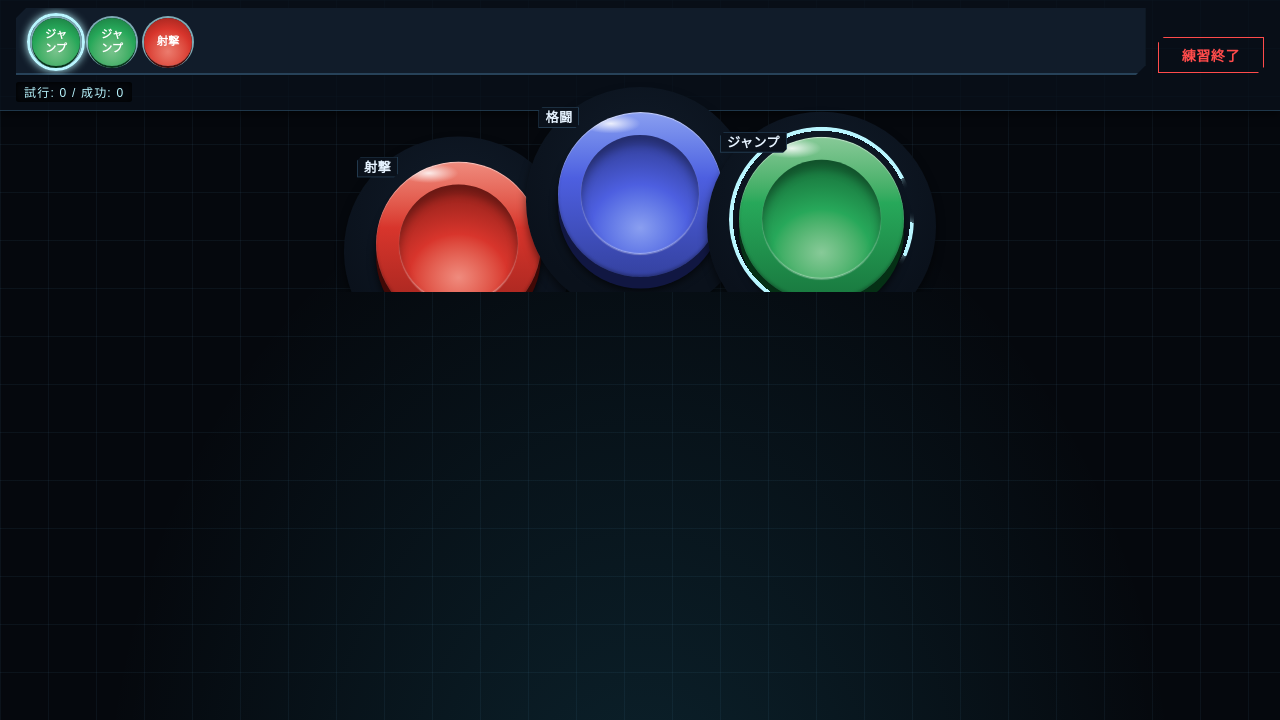
ジャンプ→ジャンプ→射撃コマンド練習 E2E テスト › 練習終了後のサマリで 1 回成功したとき成功率 100% が表示される
Press the mouse on the button "ジャンプ" at (822, 219), box [739,137,904,302]
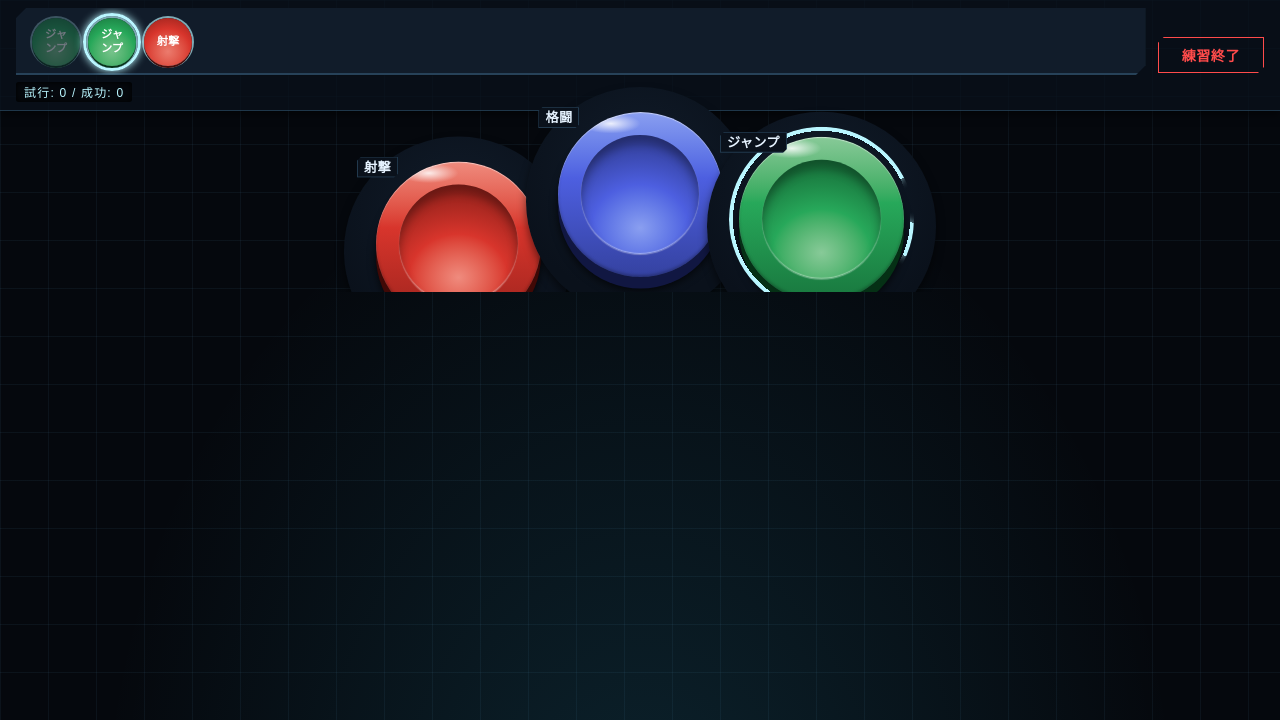
Press the mouse on the button "ジャンプ" at (822, 219), box [739,137,904,302]
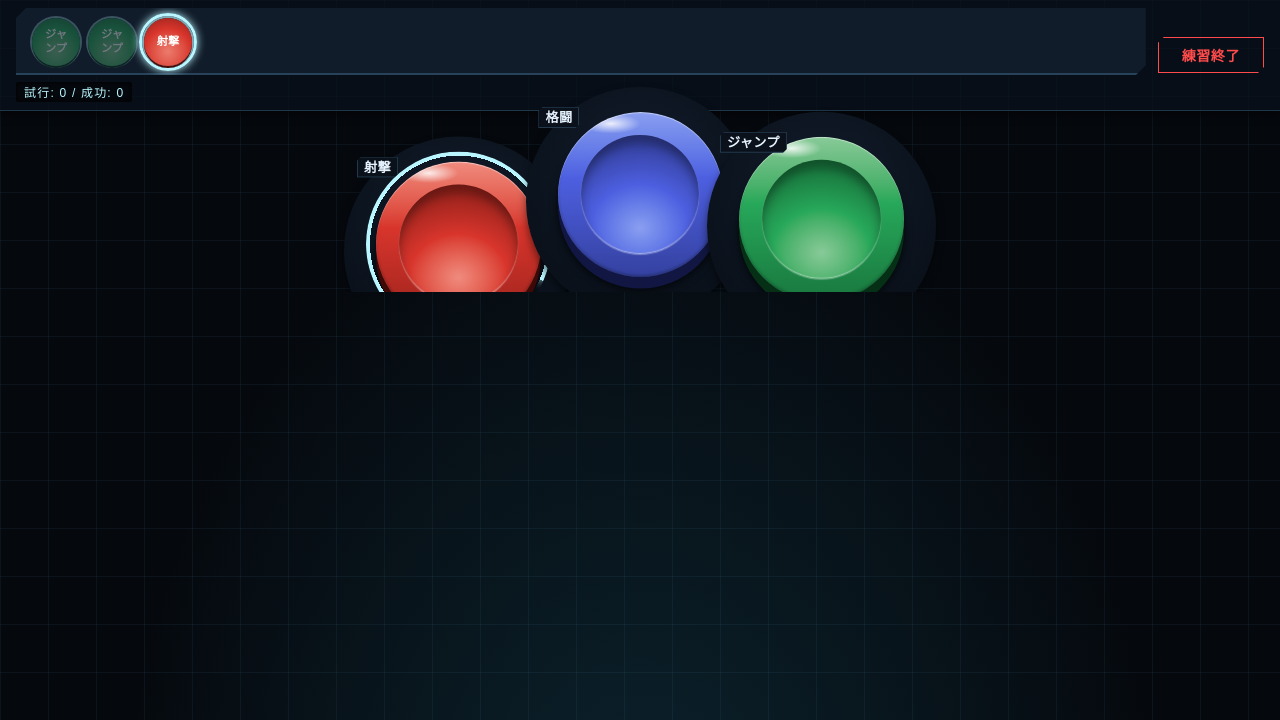
Press the mouse on the button "射撃" at (458, 244), box [376,162,541,327]
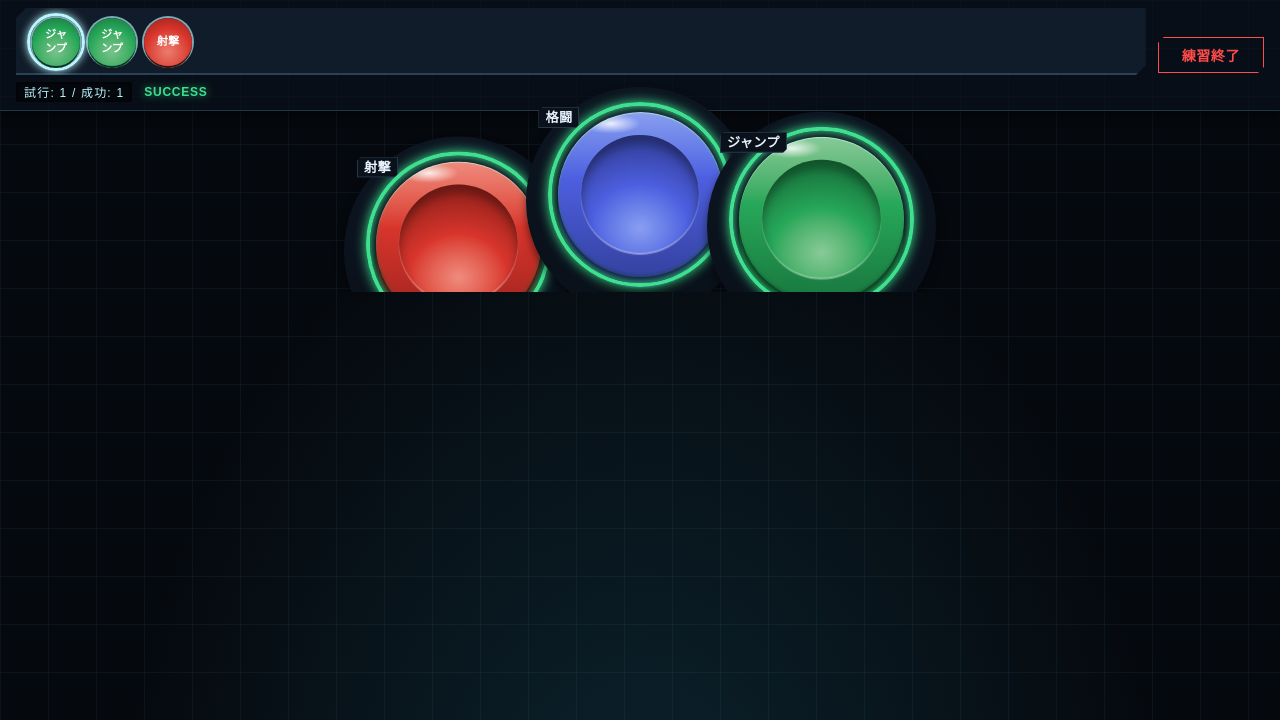
Click the button "練習終了" at (1211, 55), box [1158,37,1264,73]
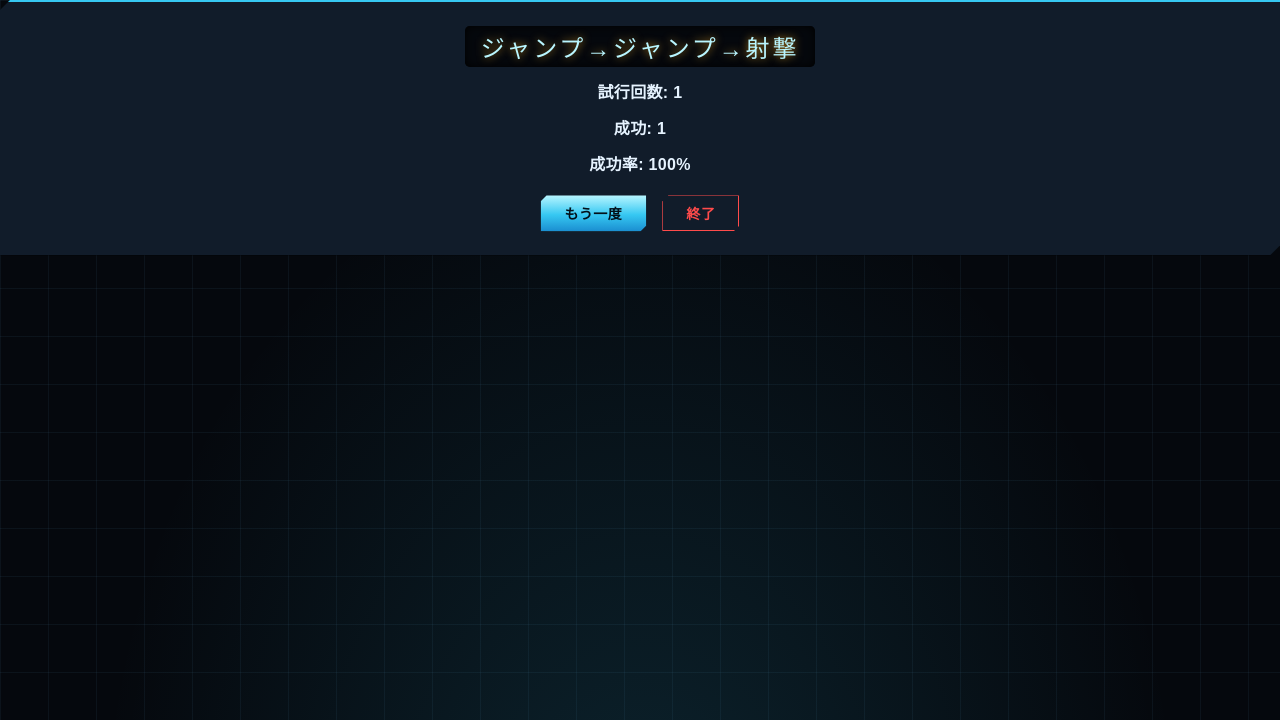
Expected: the element with test id "session-result" is shown, [0,0,1279,255]
Expected: the text with test id "success-rate" shows "100", [649,156,676,173]
